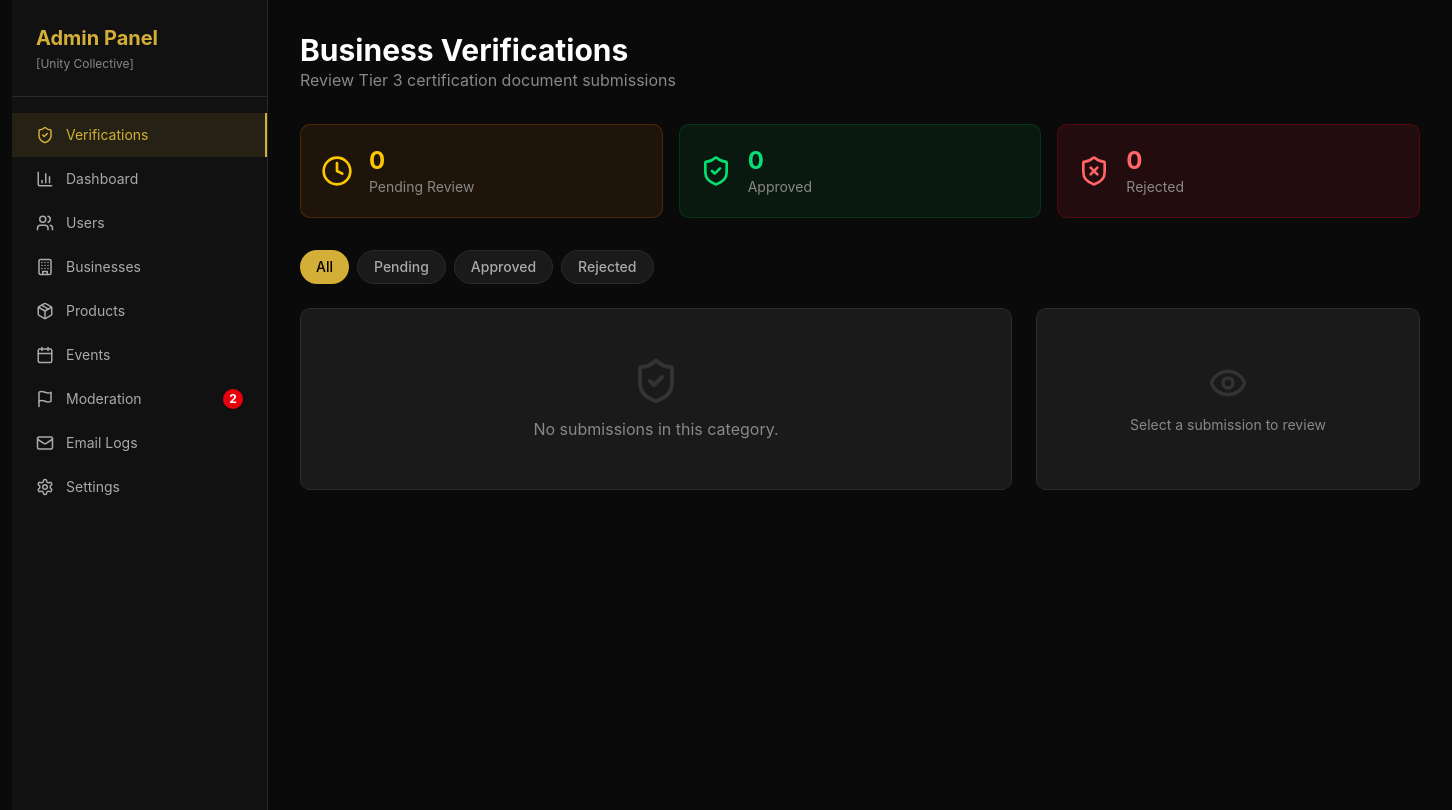
Scenario: AdminPanel — Moderation refinement › shows endorsement category, relationship, comment, and a privacy-safe member reference
This screenshot has width=1452, height=810.
Click the button "Moderation 2": (140,399) [12,377,267,421]
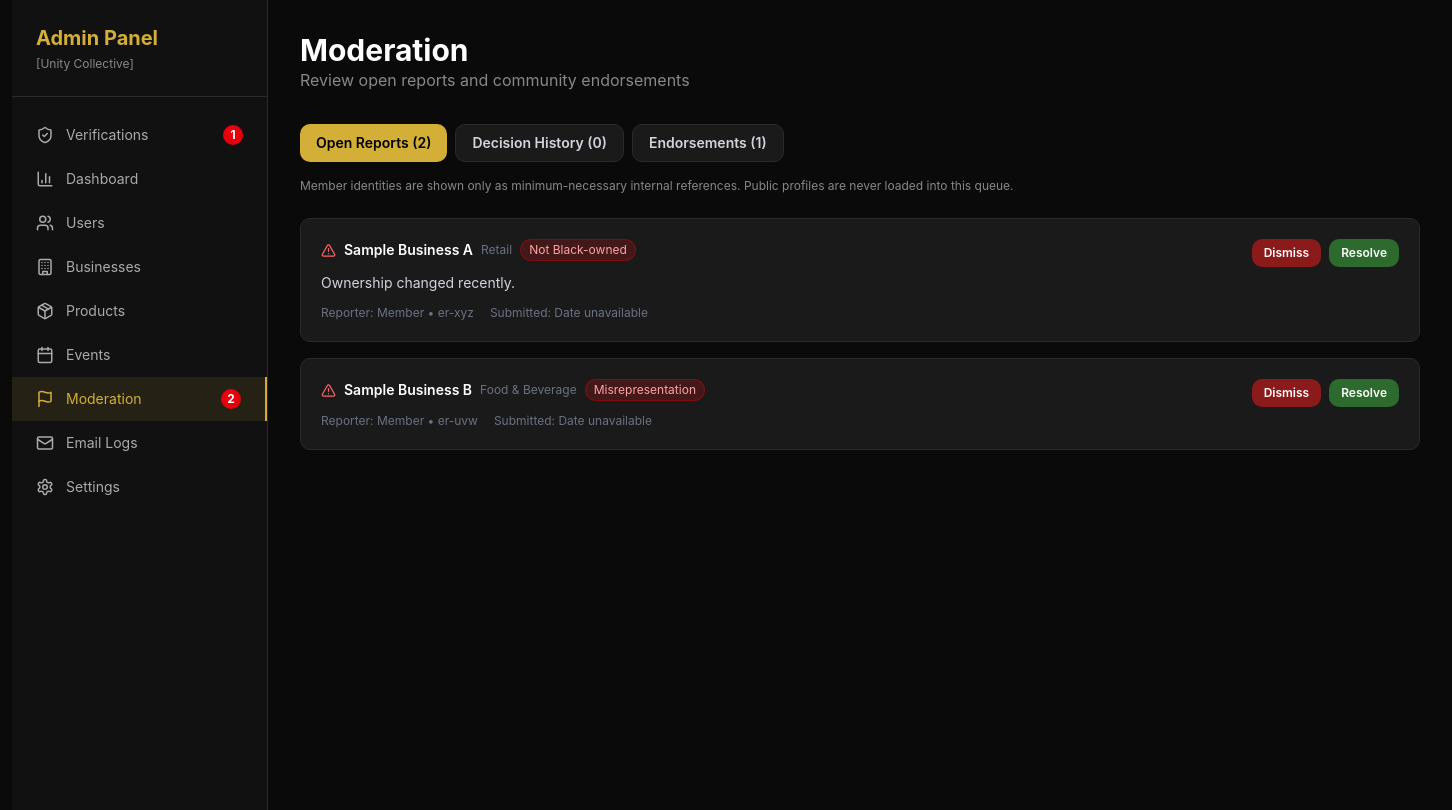
Now the button "Open Reports (2)" is shown, box [300,124,447,162]
Click the button "Endorsements (1)": (708,143) [632,124,784,162]
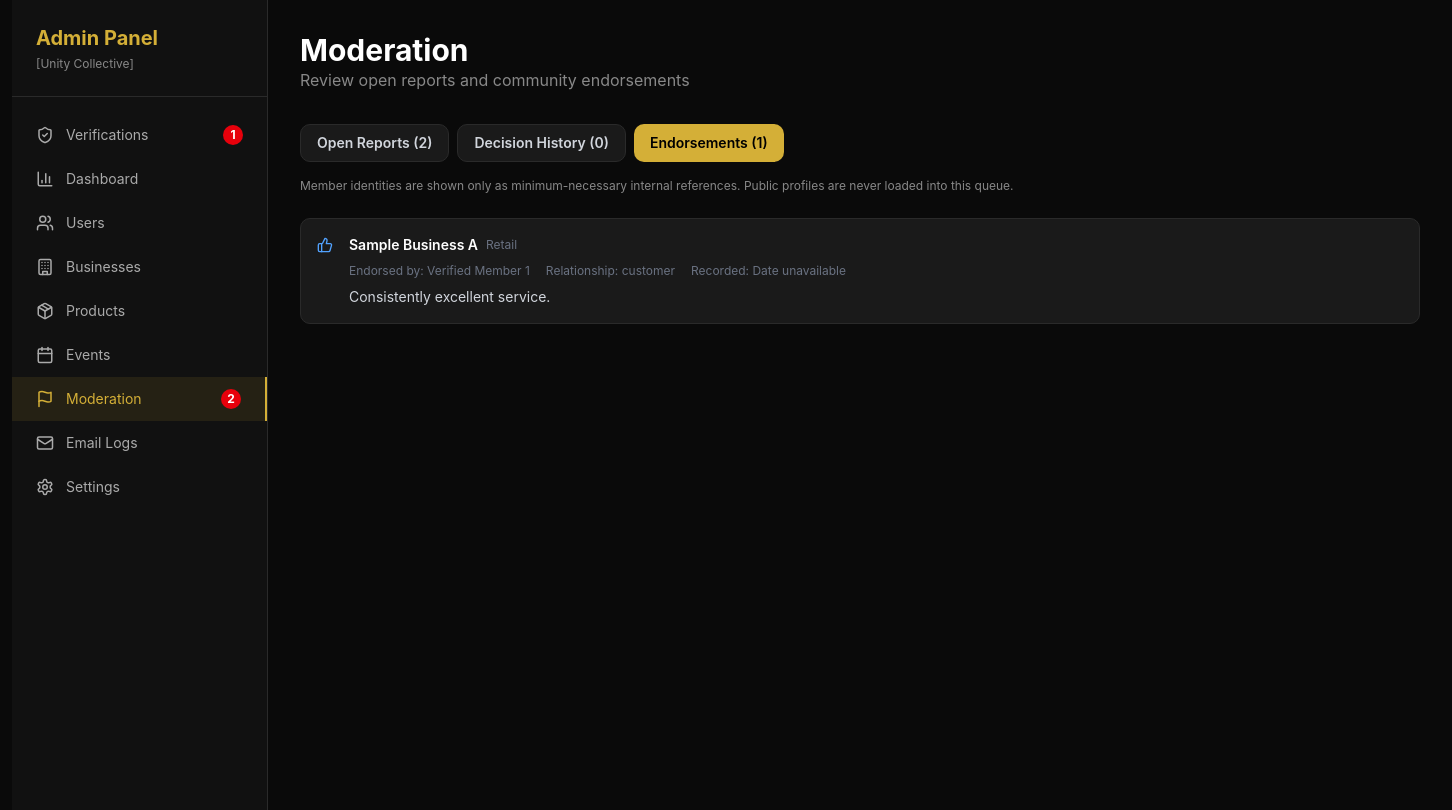
Now the text "Sample Business A" is shown, box [349,235,478,255]
Now the text "Relationship: customer" is shown, box [546,263,675,279]
Now the text "Consistently excellent service." is shown, box [349,288,550,305]
